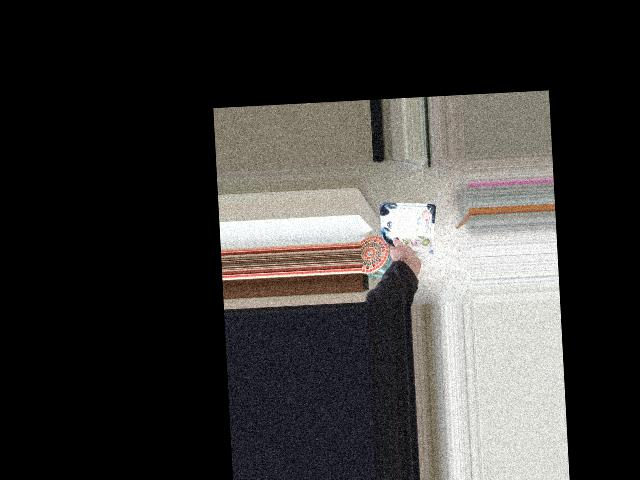cheese: (378, 211, 437, 275)
